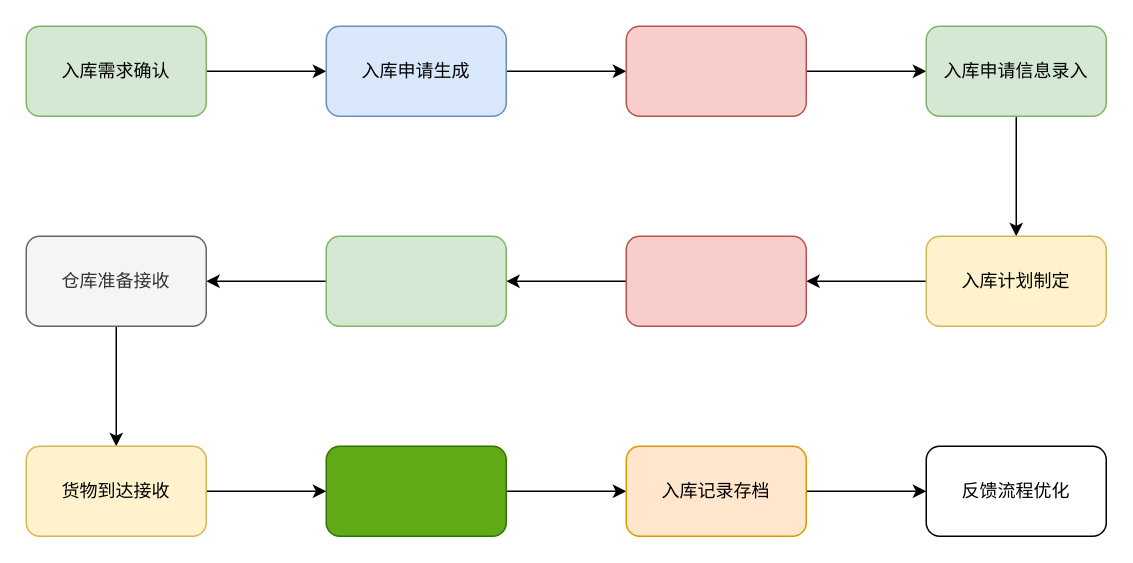
Image size: 1133x563. Some labels were removed from this diagram. Each missing label, with the box of its shape:
入库申请审核: (625, 25, 806, 116)
入库计划审核: (625, 235, 806, 326)
更新库存信息: (325, 445, 506, 536)
生成入库单: (325, 235, 506, 326)
